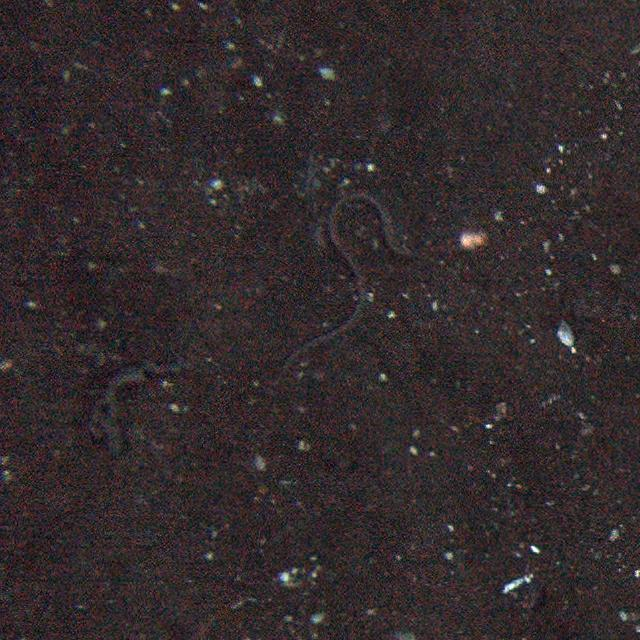eel: (288, 192, 415, 376)
